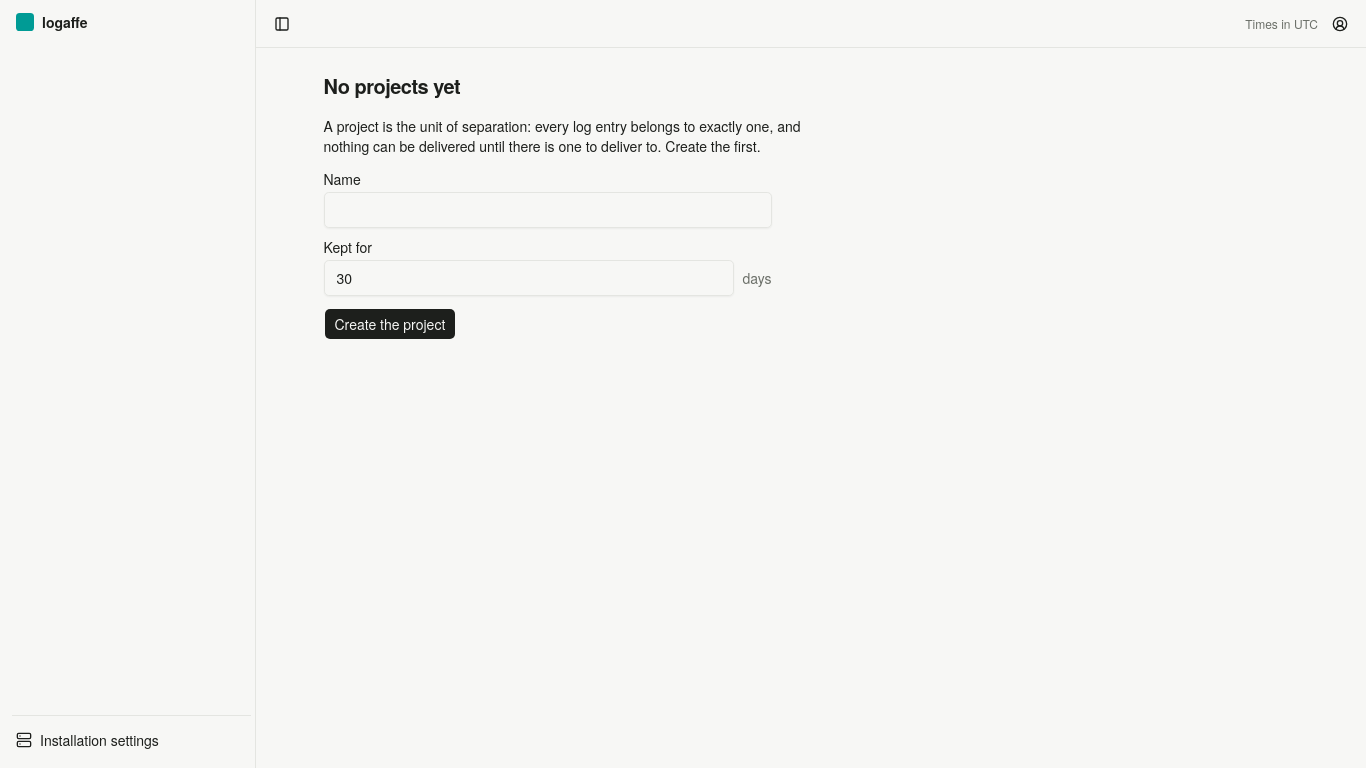
Test: the account menu › opens on what belongs to the session, and says nothing about a person
The image size is (1366, 768).
Click the button named "Account": point(1340, 24) [1326,10,1354,38]
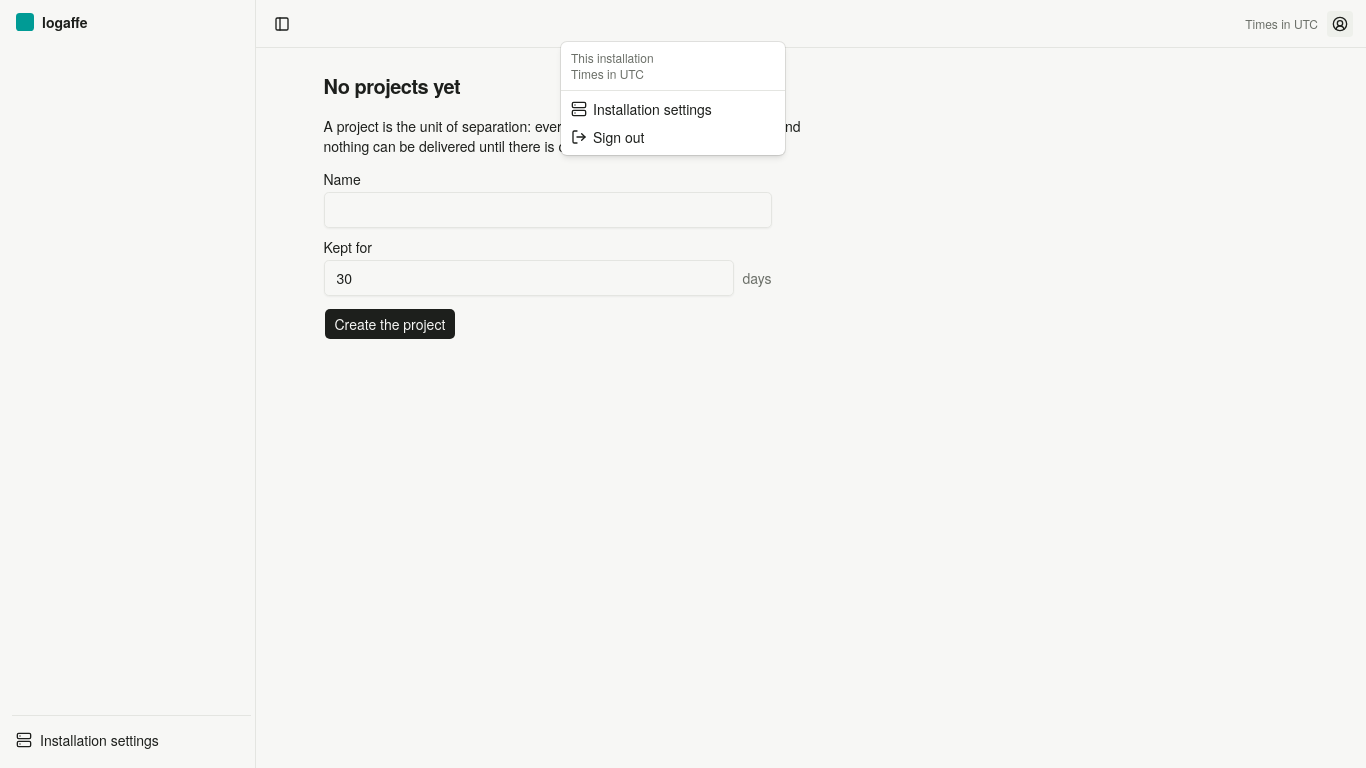
Expected: the menu item "Installation settings" is shown, [571,99,712,119]
Expected: the menu item "Sign out" is shown, [571,127,644,147]
Expected: the text "This installation" is shown, [571,49,654,66]
